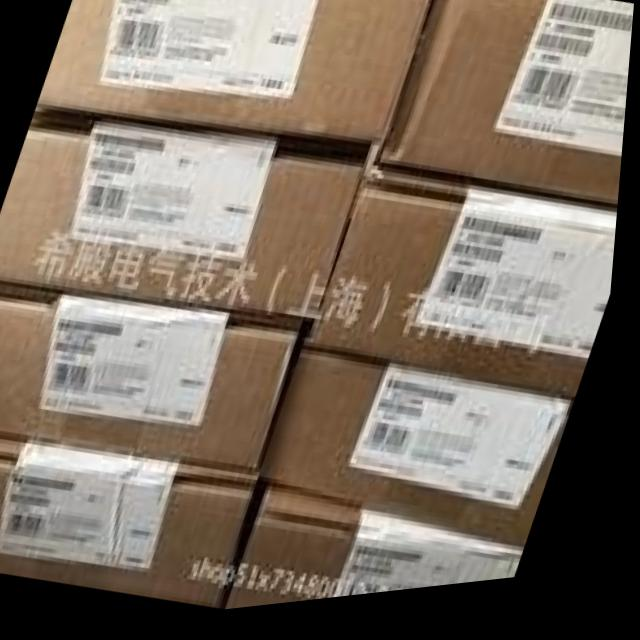box: (0, 112, 377, 327), (306, 174, 622, 411), (268, 355, 580, 560), (0, 281, 311, 473), (37, 0, 436, 148), (380, 0, 635, 223), (0, 432, 269, 609), (240, 474, 530, 614)
